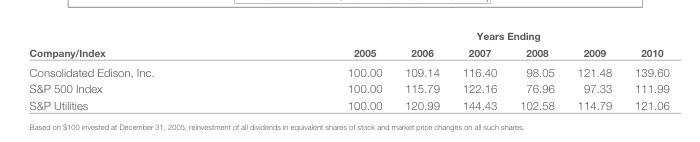table: (28, 29, 668, 110)
table column: (28, 29, 250, 110), (250, 29, 392, 110), (392, 29, 450, 110), (507, 29, 565, 110), (450, 29, 507, 110), (565, 29, 622, 110), (622, 29, 668, 110)
table column header: (28, 29, 668, 61)
table row: (28, 43, 668, 61), (28, 61, 668, 79), (28, 79, 668, 96), (28, 29, 668, 43), (28, 96, 668, 110)
table spanning cell: (28, 29, 250, 61), (250, 29, 668, 43)
